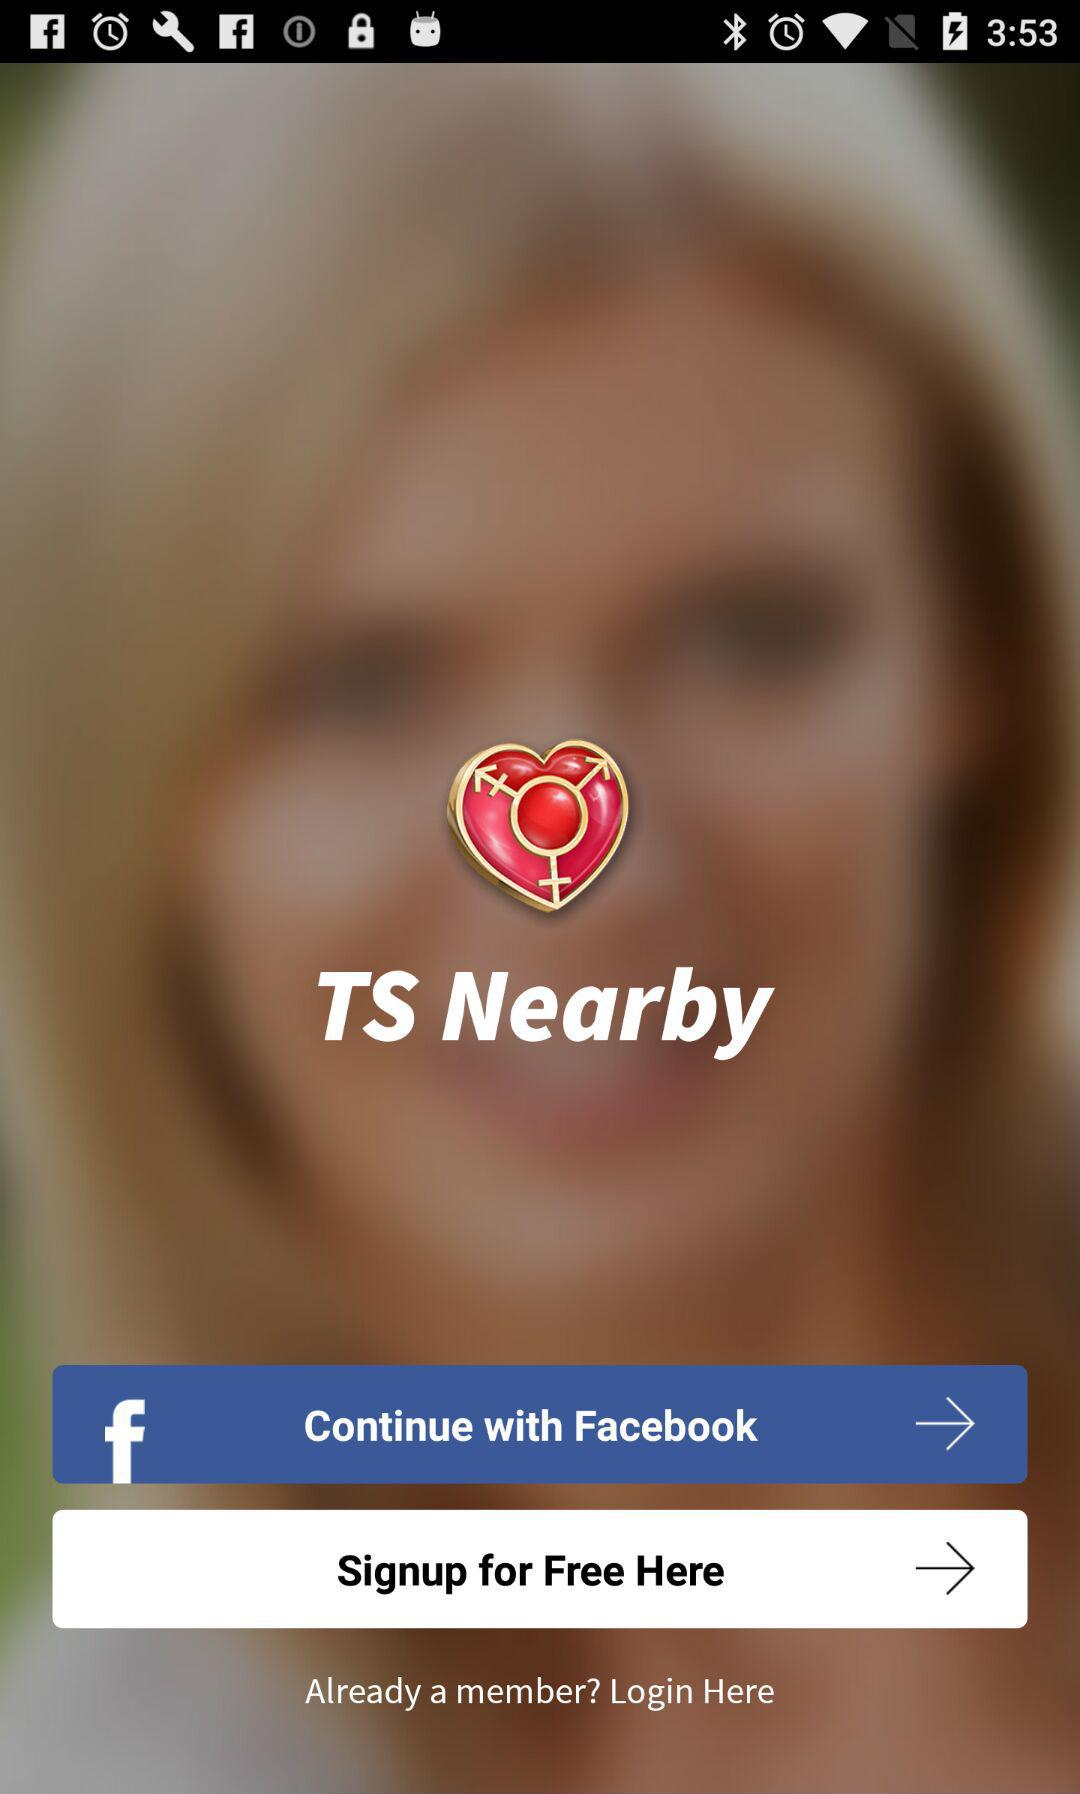BackgroundImage: (1, 64, 1080, 1794)
Image: (445, 738, 630, 916)
Text: (315, 966, 776, 1062), (305, 1676, 776, 1712)
TextButton: (53, 1365, 1027, 1485), (53, 1510, 1027, 1629)
UpperTaskBar: (1, 1, 1080, 64)
